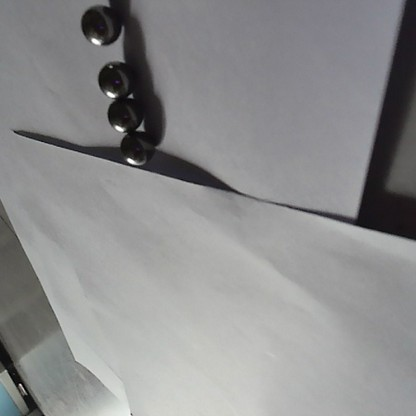ironball: (78, 5, 121, 45), (93, 61, 132, 97), (104, 100, 145, 132), (116, 136, 151, 164)
